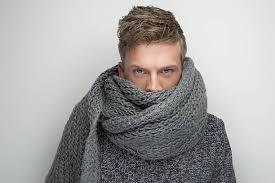scarf-kerchief: (92, 58, 216, 146)
